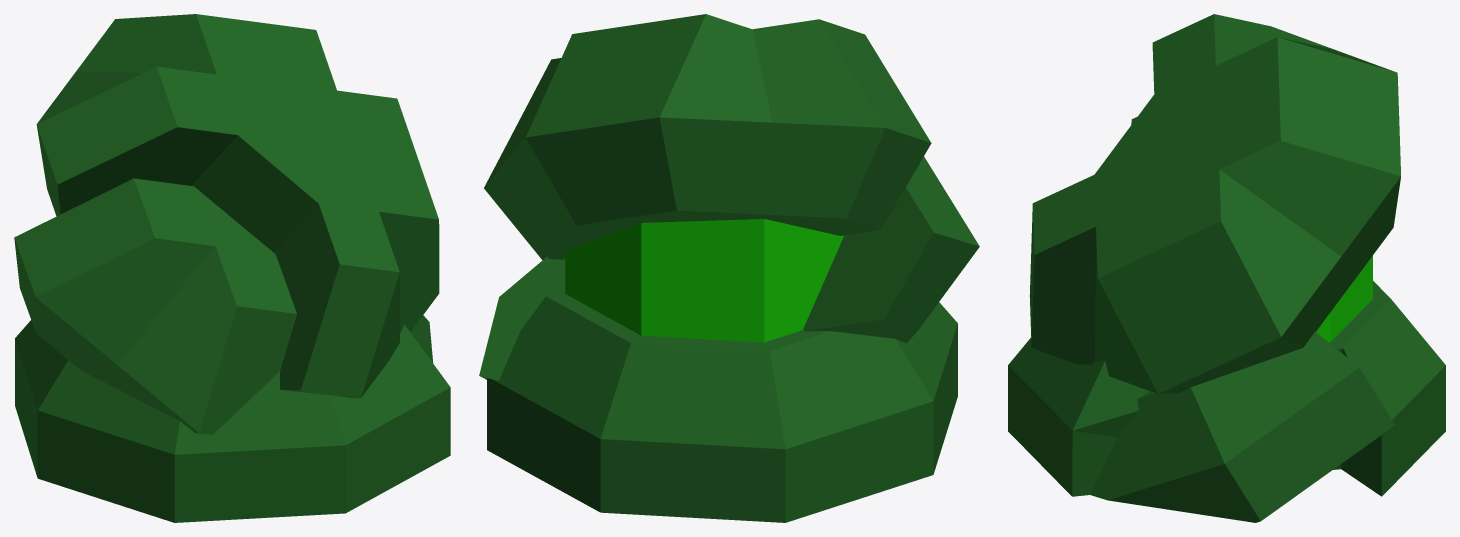
File: DestroyedTurret.glb
The picture shows the model from 3 angles, left to right: view 1: azimuth 30°, elevation 25°; view 2: azimuth 150°, elevation 25°; view 3: azimuth 270°, elevation 25°; orthographic projection. The views are drawn at different scales.
Parts seen in each view (by area): view 1: DestroyedTurret; view 2: DestroyedTurret; view 3: DestroyedTurret.
Part boxes in pixels (left/top/right/bottom): DestroyedTurret: left=14, top=14, right=450, bottom=522; DestroyedTurret: left=479, top=14, right=979, bottom=522; DestroyedTurret: left=1008, top=14, right=1445, bottom=522.
Bounding box in the file's own units: 3.17 × 2.94 × 3.
